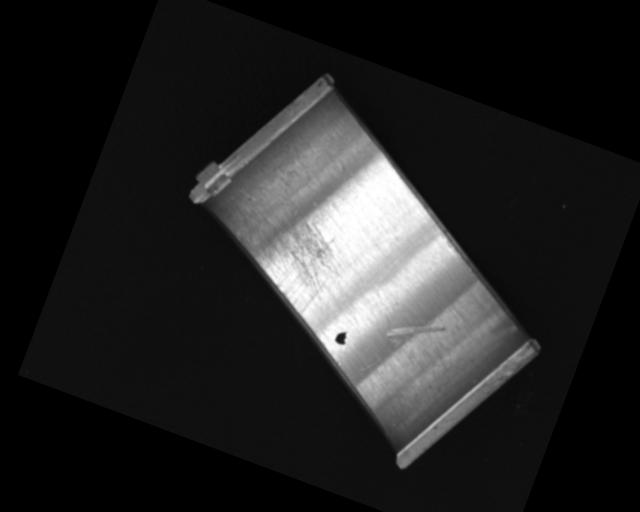blot: (333, 328, 349, 347)
nick: (382, 308, 446, 361), (356, 309, 399, 379)
scratch: (224, 200, 355, 325)
